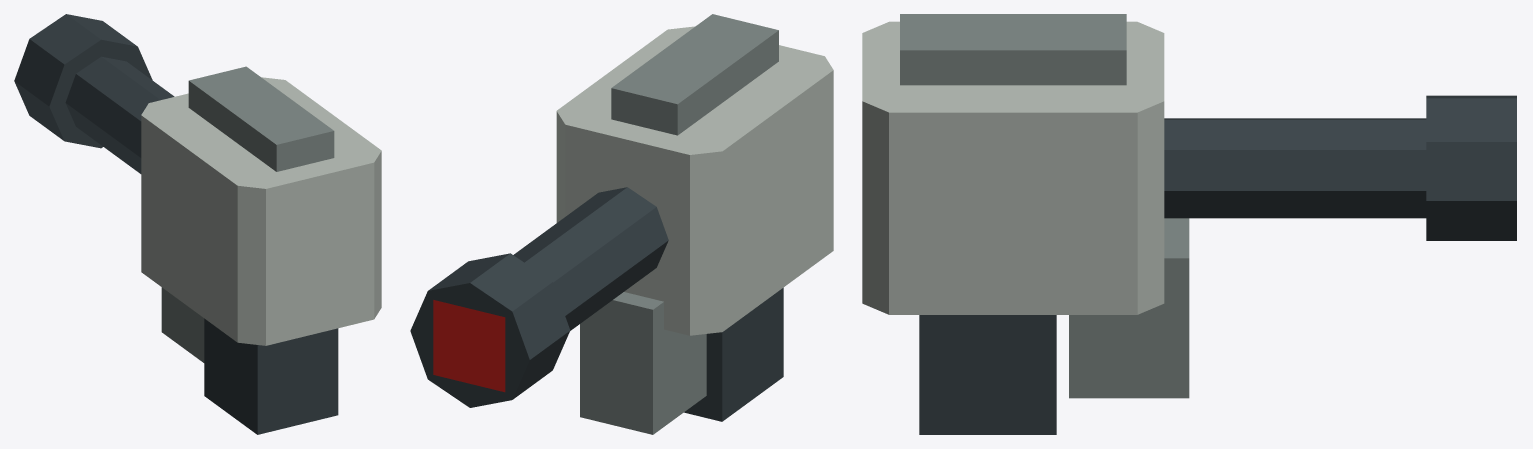
3 views of the same model, side by side, from view 1: azimuth 30°, elevation 25°; view 2: azimuth 150°, elevation 25°; view 3: azimuth 270°, elevation 25° (orthographic). The views are drawn at different scales.
Parts seen in each view (by area): view 1: mount; view 2: mount; view 3: mount.
Boxes of the visible parts, x1,y1,x2,y2 form: mount: (14,14,381,434); mount: (410,14,833,434); mount: (862,14,1516,434).
Size of the model in its own units: 3.75 by 7.27 by 11.47.
